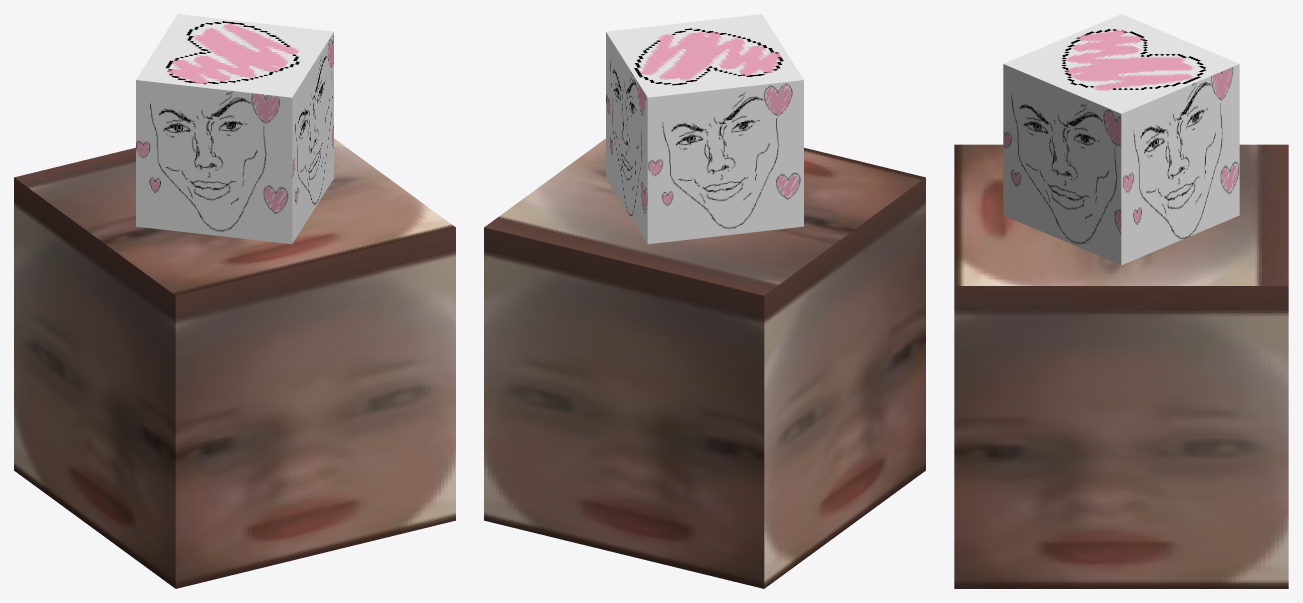
File: debug.glb
3 views of the same model, side by side, from view 1: azimuth 30°, elevation 25°; view 2: azimuth 150°, elevation 25°; view 3: azimuth 270°, elevation 25° (orthographic). The views are drawn at different scales.
Visible parts, largest first — view 1: Cube, Cube.001; view 2: Cube, Cube.001; view 3: Cube, Cube.001.
Boxes of the visible parts, <box> form: Cube: <box>14,138,455,588</box>; Cube.001: <box>136,14,333,244</box>; Cube: <box>484,138,925,588</box>; Cube.001: <box>606,14,803,244</box>; Cube: <box>954,144,1288,588</box>; Cube.001: <box>1003,14,1239,265</box>.
Bounding box in the file's own units: 1 × 1.5 × 1.
Materials: 2 (2 with a texture image).
